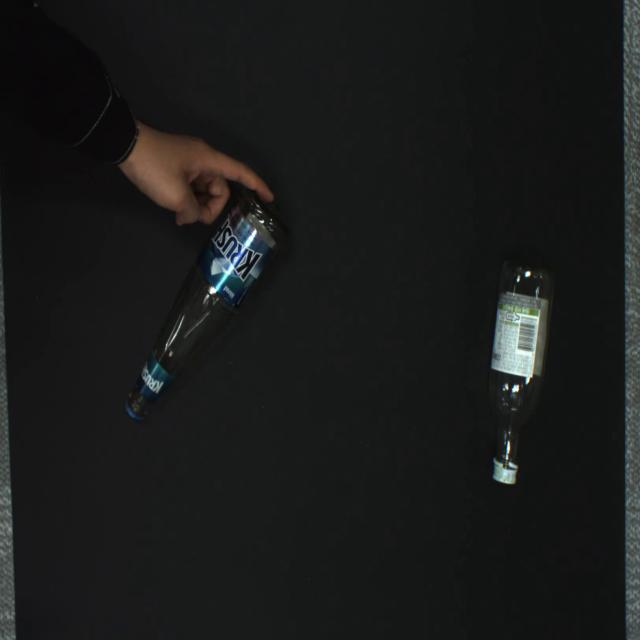beer-bottle: (126, 186, 285, 420)
soju-bottle: (488, 264, 554, 484)
